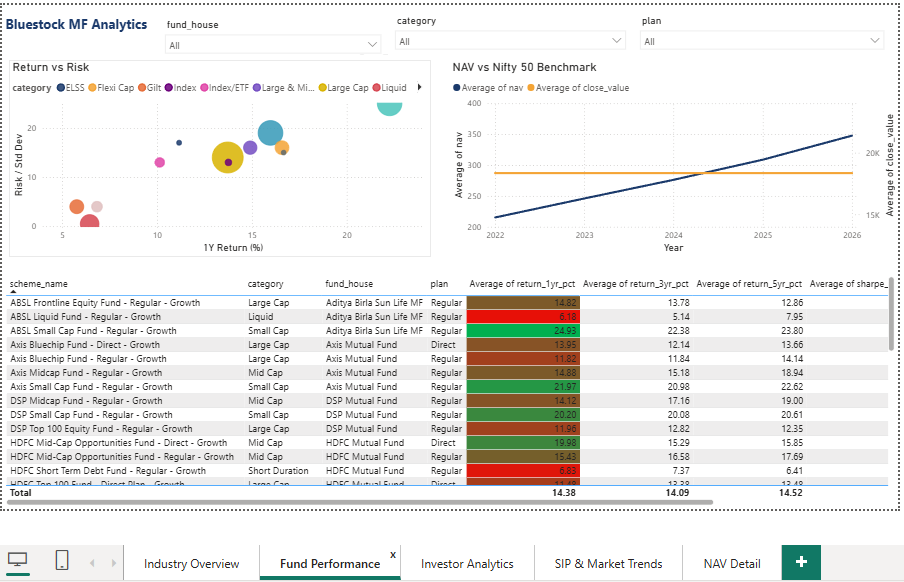

What the dashboard file says about the page in this screenshot:
{"tool":"powerbi","page":{"name":"Fund Performance ","canvas":[1280,720],"ordinal":1},"visuals":[{"type":"scatterChart","title":"Return vs Risk","fields":{"X":["Avg(Performance.return_1yr_pct)"],"Y":["Avg(Performance.std_dev_ann_pct)"],"Size":["Sum(Performance.aum_crore)"],"Series":["Performance.category"]},"box":[10.2,79,602.9,281],"z":0},{"type":"tableEx","fields":{"Values":["Performance.scheme_name","Performance.category","Performance.fund_house","Performance.plan","Avg(Performance.return_1yr_pct)","Avg(Performance.return_3yr_pct)","Avg(Performance.return_5yr_pct)","Avg(Performance.sharpe_ratio)","Sum(Performance.morningstar_rating)","Performance.risk_grade"]},"box":[0,383.4,1280.5,336.6],"z":1000},{"type":"lineChart","title":"NAV vs Nifty 50 Benchmark","fields":{"Category":["NAV.date.Variation.Date Hierarchy.Year","NAV.date.Variation.Date Hierarchy.Quarter","NAV.date.Variation.Date Hierarchy.Month","NAV.date.Variation.Date Hierarchy.Day"],"Y":["Avg(NAV.nav)"],"Y2":["Avg(Benchmark.close_value)"]},"box":[639,78.4,641.6,281.6],"z":2000},{"type":"slicer","fields":{"Values":["Performance.fund_house"]},"box":[222.4,14.6,329.3,57.1],"z":3000},{"type":"slicer","fields":{"Values":["Performance.category"]},"box":[551.7,8.8,349.8,70.2],"z":4000},{"type":"slicer","fields":{"Values":["Performance.plan"]},"box":[901.5,8.8,368.8,70.2],"z":5000},{"type":"textbox","box":[0,8.8,231.2,48.3],"z":6000}]}

Visuals, with their boxes on the page's 1280x720 design canvas (x1, y1, x2, y2). These are canvas units, not pixel positions in the 904x582 screenshot, which may show the page scaled, cropped or inside an application window:
"Return vs Risk" scatterChart: (10,79,613,360)
tableEx - Performance.scheme_name x Performance.category: (0,383,1280,720)
"NAV vs Nifty 50 Benchmark" lineChart: (639,78,1281,360)
slicer - Performance.fund_house: (222,15,552,72)
slicer - Performance.category: (552,9,902,79)
slicer - Performance.plan: (902,9,1270,79)
textbox: (0,9,231,57)
